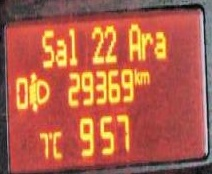0: (15, 73, 28, 108)
2: (103, 20, 118, 62), (92, 22, 104, 63), (68, 69, 80, 107)
3: (95, 66, 106, 104)
5: (98, 114, 114, 157)
6: (108, 66, 120, 104)
7: (115, 110, 130, 153), (38, 129, 47, 159)
9: (79, 114, 92, 157), (120, 64, 133, 103), (80, 69, 94, 104)
X: (40, 25, 53, 70), (127, 22, 141, 60), (67, 24, 79, 66), (55, 33, 67, 72), (154, 29, 167, 59), (141, 28, 152, 58), (51, 127, 61, 158), (139, 68, 149, 85), (133, 64, 139, 86)
